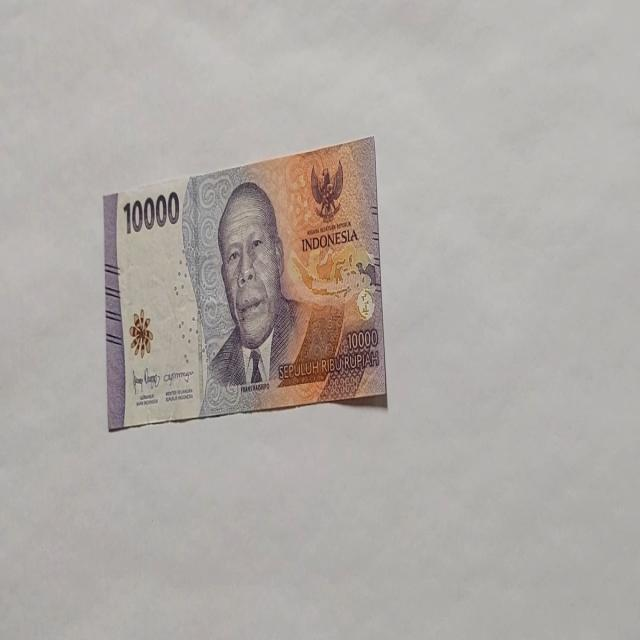sepuluh ribu rupiah: (102, 134, 388, 431)
